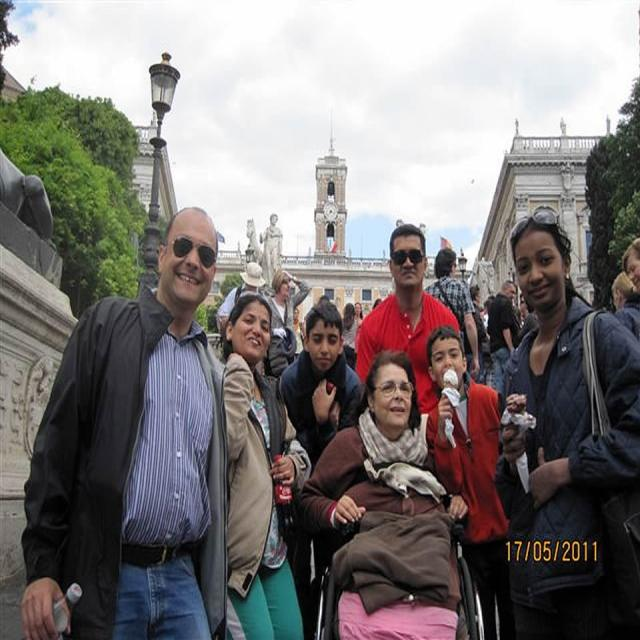body: (19, 205, 227, 639), (490, 203, 640, 639), (295, 352, 471, 534), (222, 292, 314, 640), (421, 324, 509, 640), (354, 223, 463, 416), (276, 297, 366, 483), (422, 246, 481, 378), (267, 270, 312, 366), (605, 234, 639, 343), (486, 278, 517, 393), (216, 260, 267, 326), (508, 108, 618, 136), (240, 206, 295, 260), (462, 284, 488, 386), (339, 302, 360, 372), (288, 307, 305, 358), (482, 294, 495, 329), (514, 291, 526, 325), (353, 302, 364, 328), (372, 292, 385, 313), (320, 293, 331, 304)
